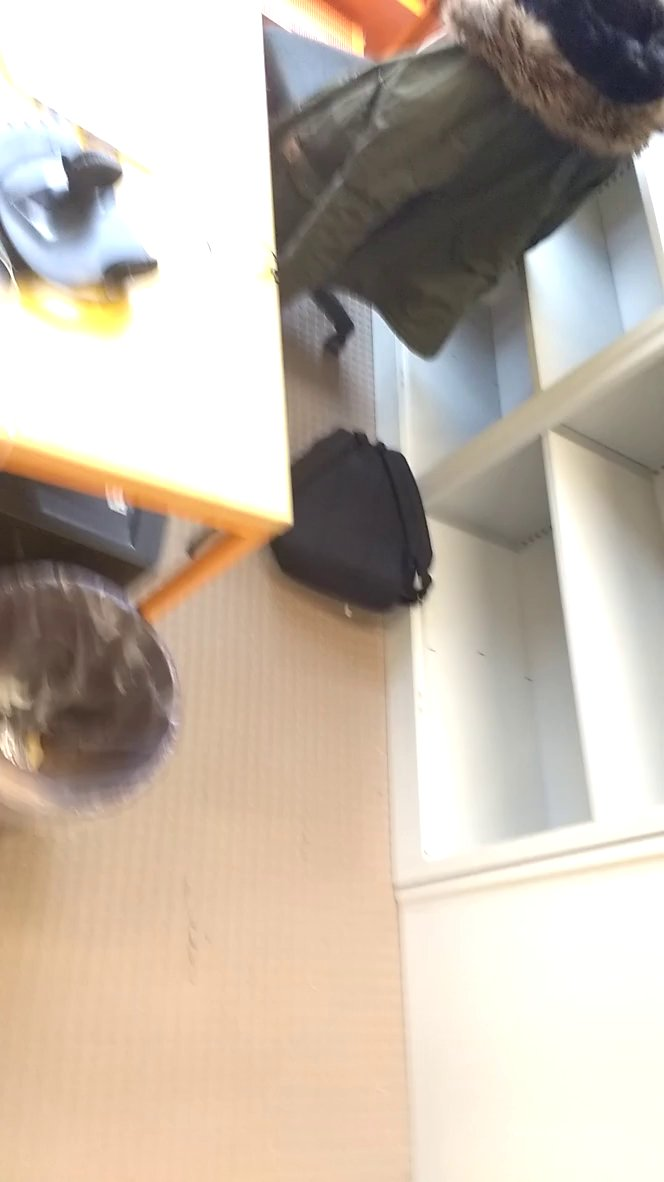bag: (265, 414, 449, 622)
